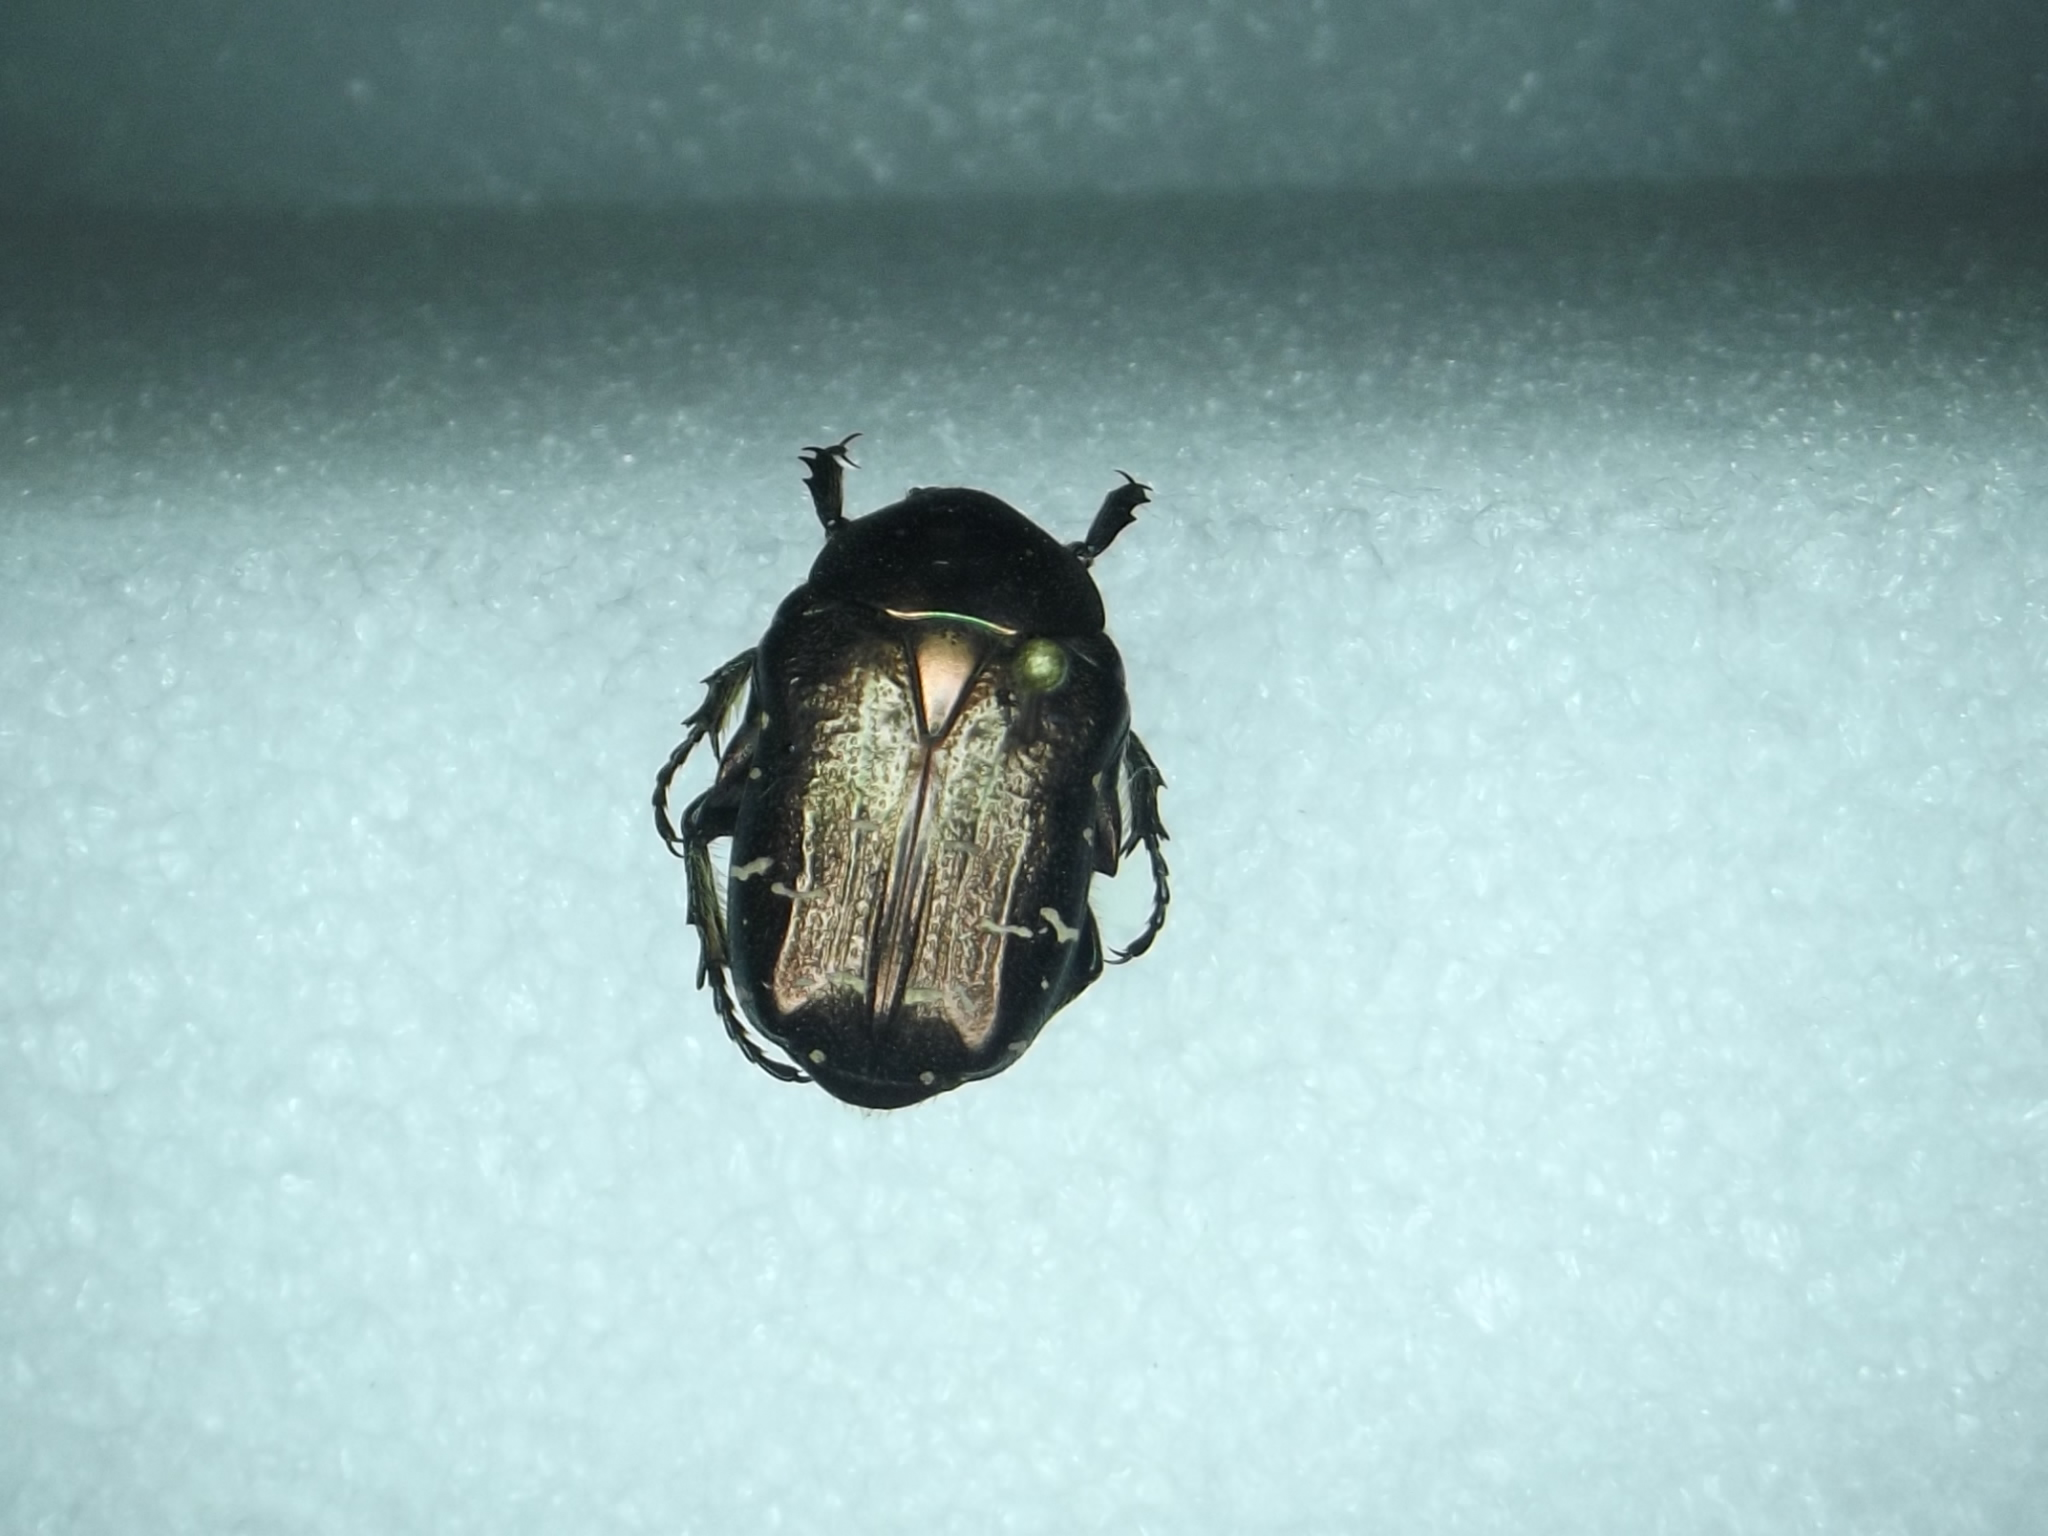Cetonia_aurata: (643, 395, 1185, 1125)
